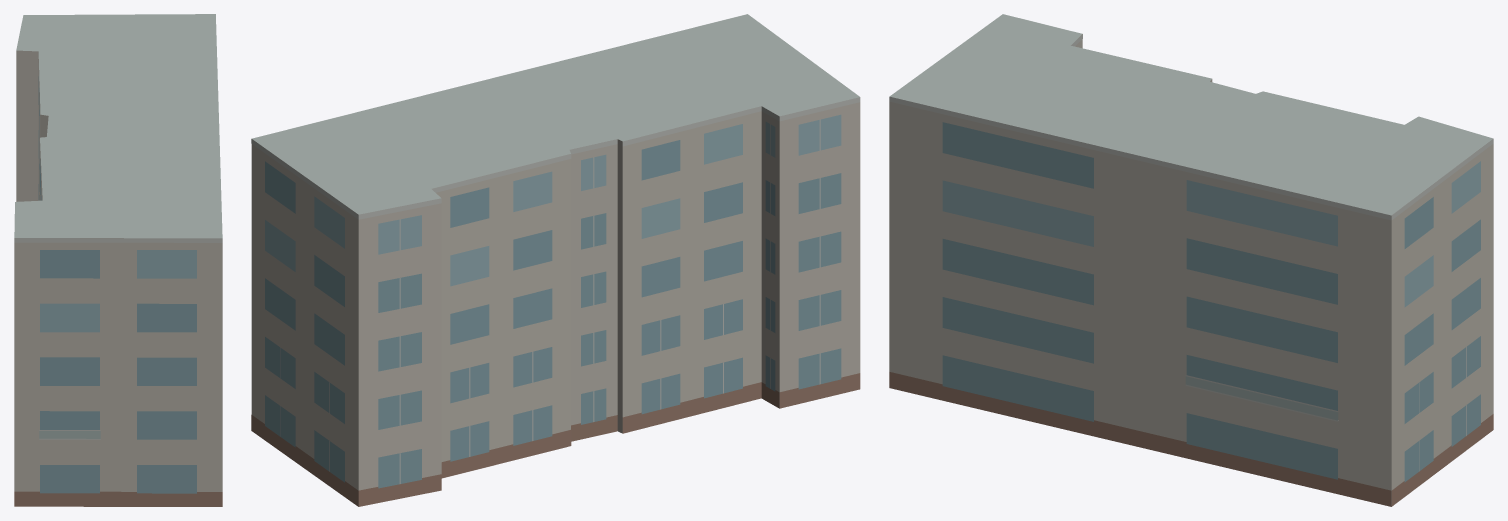
The model's file is survey-upis-32675700.glb.
3 views of the same model, side by side, from view 1: azimuth 30°, elevation 25°; view 2: azimuth 150°, elevation 25°; view 3: azimuth 270°, elevation 25° (orthographic). The views are drawn at different scales.
Parts seen in each view (by area): view 1: survey-upis-32675700.tmp; view 2: survey-upis-32675700.tmp; view 3: survey-upis-32675700.tmp.
Part boxes in pixels (box(x1,y1,x2,y2)): survey-upis-32675700.tmp: box(14, 14, 222, 506); survey-upis-32675700.tmp: box(251, 14, 860, 506); survey-upis-32675700.tmp: box(889, 14, 1493, 506).
Size of the model in its own units: 21 by 14.16 by 26.61.
